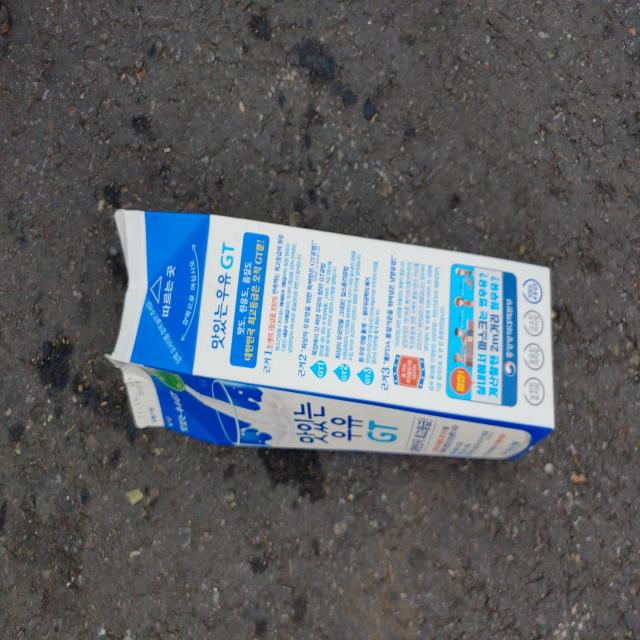paperpack: (107, 209, 555, 459)
